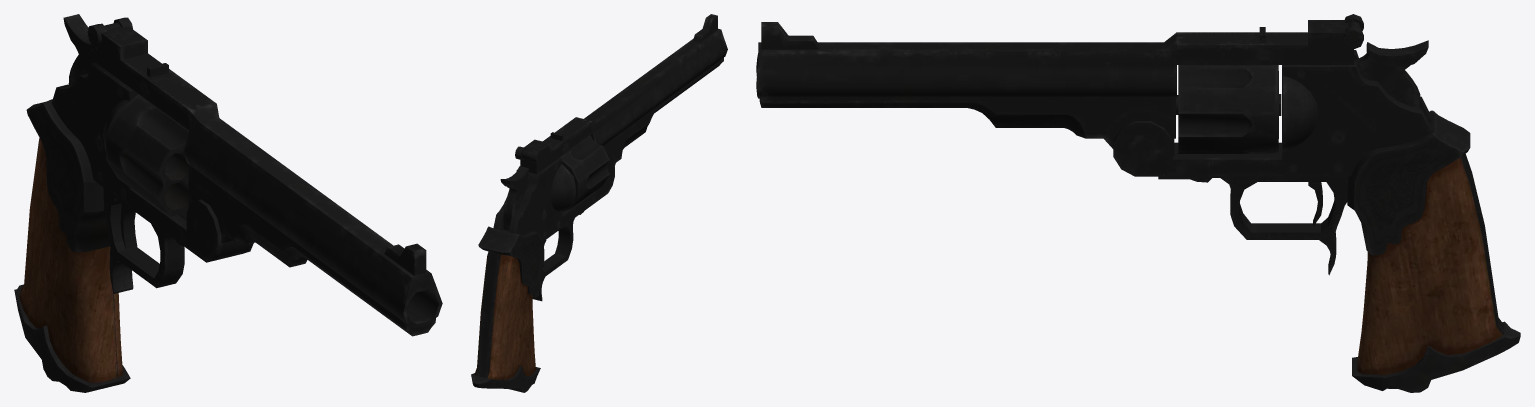
The model's file is satoshi-sidearm.glb.
3 views of the same model, side by side, from view 1: azimuth 30°, elevation 25°; view 2: azimuth 150°, elevation 25°; view 3: azimuth 270°, elevation 25° (orthographic). The views are drawn at different scales.
Parts seen in each view (by area): view 1: Frame_Dechirer_0; view 2: Frame_Dechirer_0; view 3: Frame_Dechirer_0.
Boxes of the visible parts, x1=… form: Frame_Dechirer_0: x1=14, y1=14, x2=442, y2=392; Frame_Dechirer_0: x1=471, y1=14, x2=727, y2=392; Frame_Dechirer_0: x1=756, y1=14, x2=1520, y2=392.
Size of the model in its own units: 3.83 by 15.7 by 30.41.
Materials: 1 (1 with a texture image).
